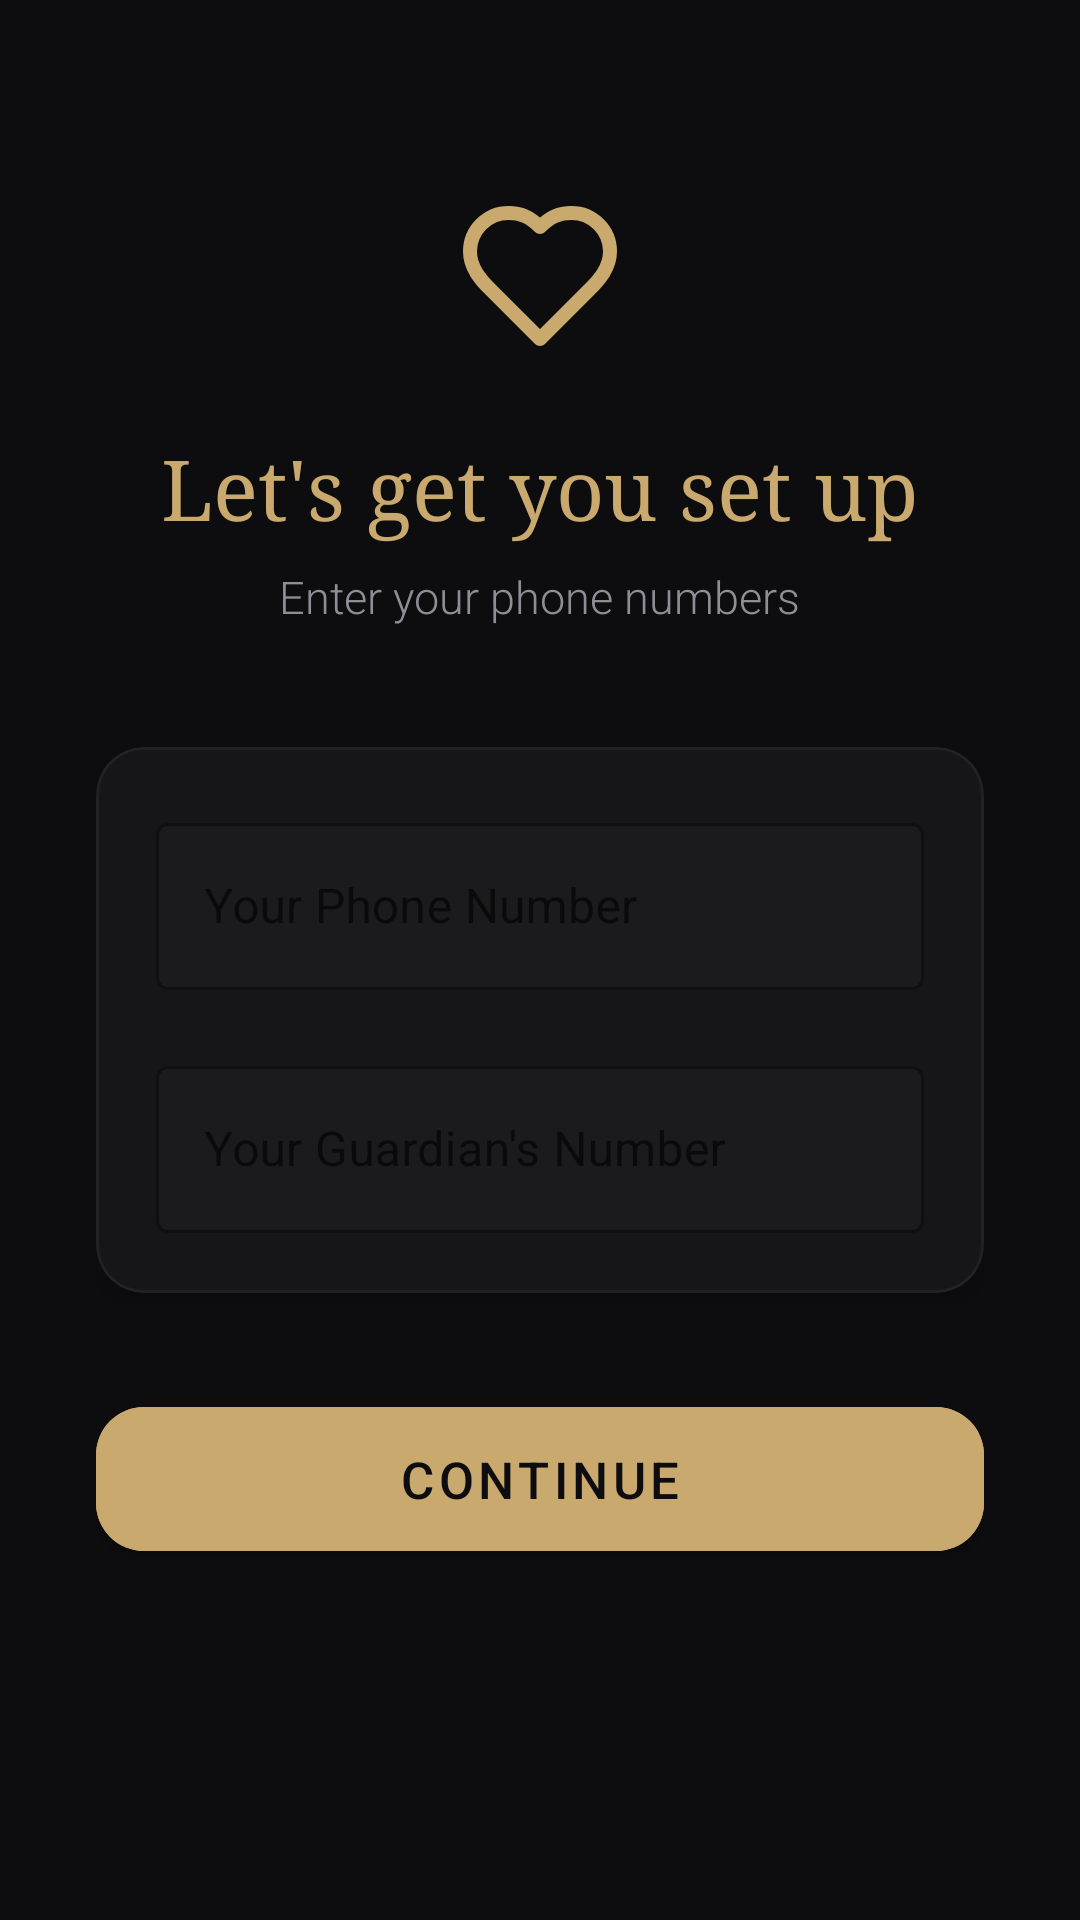

Where icons sit on this 1080*1920 app screen, as (left=x1, top=y1, right=x2, bottom=y2):
heart vlynxly: (left=463, top=206, right=617, bottom=346)
